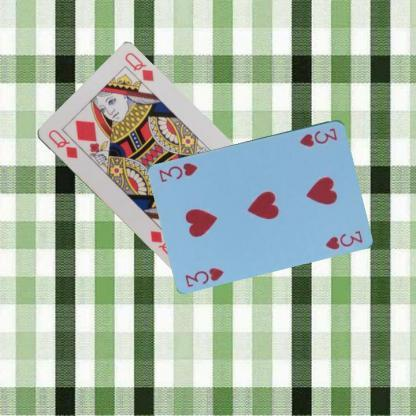3h: (182, 264, 226, 288), (297, 125, 339, 148)
Qd: (45, 126, 79, 160)
